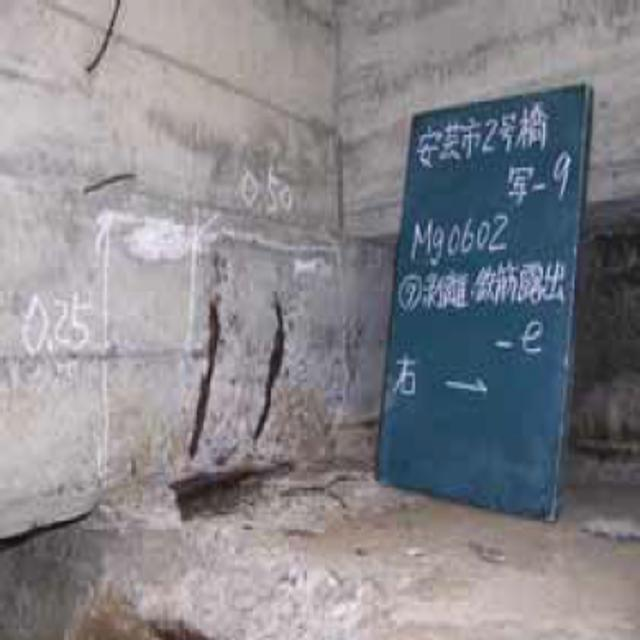spalling: (170, 239, 357, 477)
